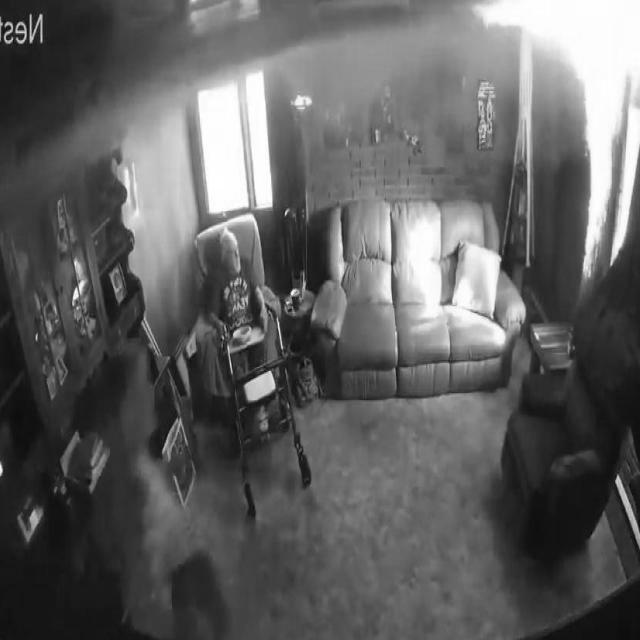fire: (272, 2, 458, 140)
smoke: (571, 0, 640, 279), (471, 0, 640, 63)
